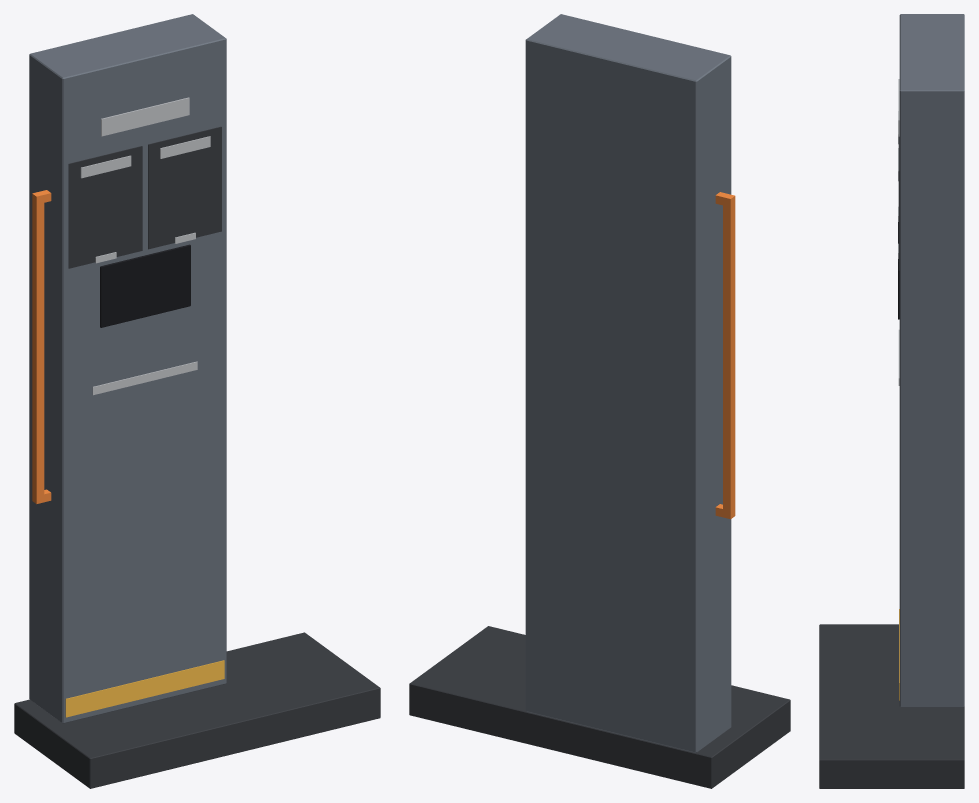
File: countermeasures_station_body.glb
The picture shows the model from 3 angles, left to right: view 1: azimuth 30°, elevation 25°; view 2: azimuth 150°, elevation 25°; view 3: azimuth 270°, elevation 25°; orthographic projection. The views are drawn at different scales.
Visible parts, largest first — view 1: CountermeasuresStationBody; view 2: CountermeasuresStationBody; view 3: CountermeasuresStationBody.
Part boxes in pixels (x1=…): CountermeasuresStationBody: x1=14, y1=14, x2=380, y2=788; CountermeasuresStationBody: x1=409, y1=14, x2=790, y2=788; CountermeasuresStationBody: x1=819, y1=14, x2=964, y2=788.
Size of the model in its own units: 0.99 by 2.2 by 0.448.
